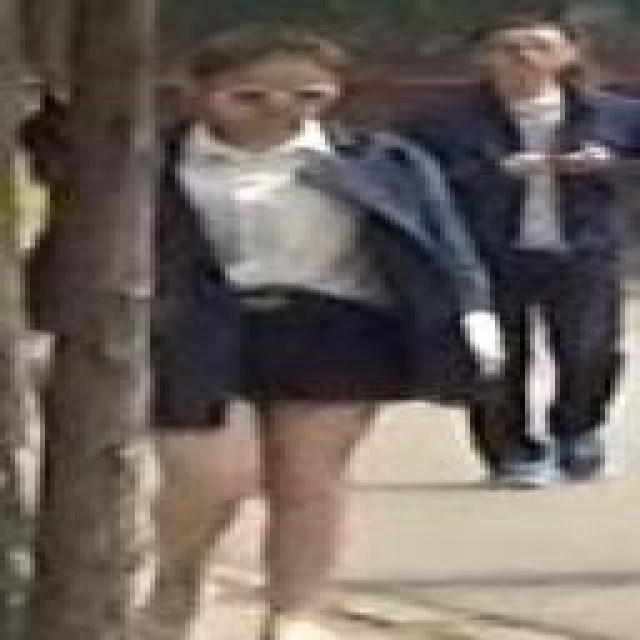adult: (135, 20, 485, 640), (424, 22, 640, 486)
